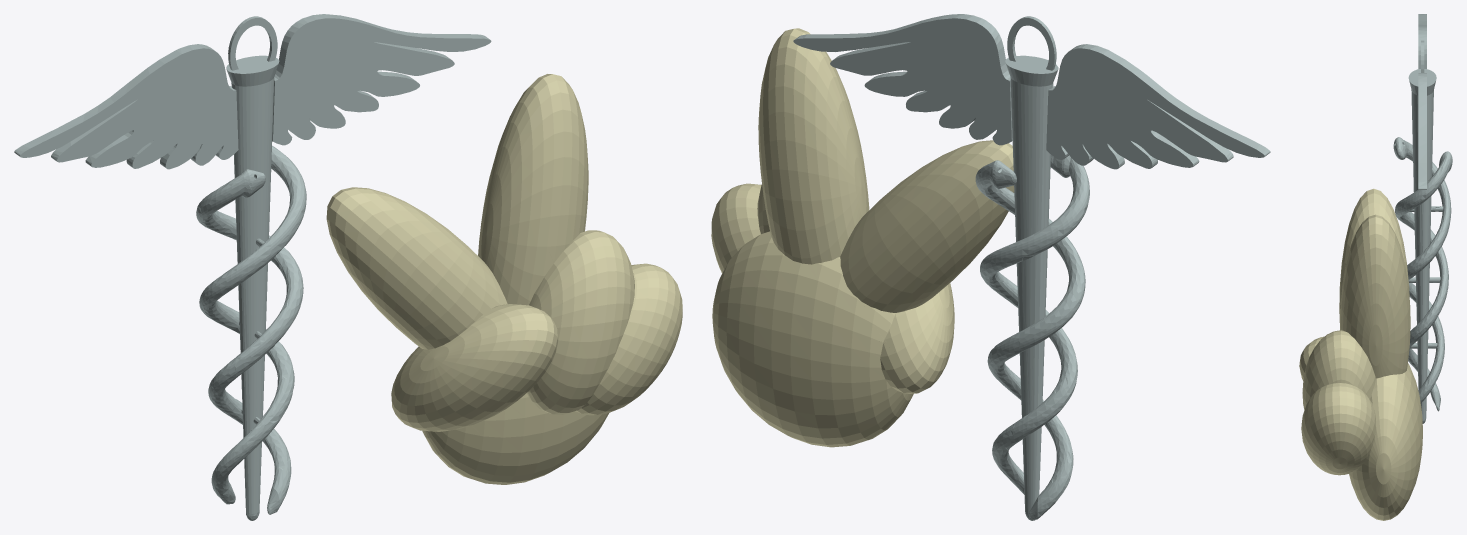
File: BQModel.glb
3 views of the same model, side by side, from view 1: azimuth 30°, elevation 25°; view 2: azimuth 150°, elevation 25°; view 3: azimuth 270°, elevation 25° (orthographic). The views are drawn at different scales.
Parts seen in each view (by area): view 1: Mesh_Mesh_head_geo.001_lambert2SG.001; view 2: Mesh_Mesh_head_geo.001_lambert2SG.001; view 3: Mesh_Mesh_head_geo.001_lambert2SG.001.
Boxes of the visible parts, x1=… form: Mesh_Mesh_head_geo.001_lambert2SG.001: x1=14, y1=14, x2=682, y2=520; Mesh_Mesh_head_geo.001_lambert2SG.001: x1=711, y1=14, x2=1270, y2=520; Mesh_Mesh_head_geo.001_lambert2SG.001: x1=1299, y1=14, x2=1452, y2=520.
Bounding box in the file's own units: 45 × 35.69 × 13.
